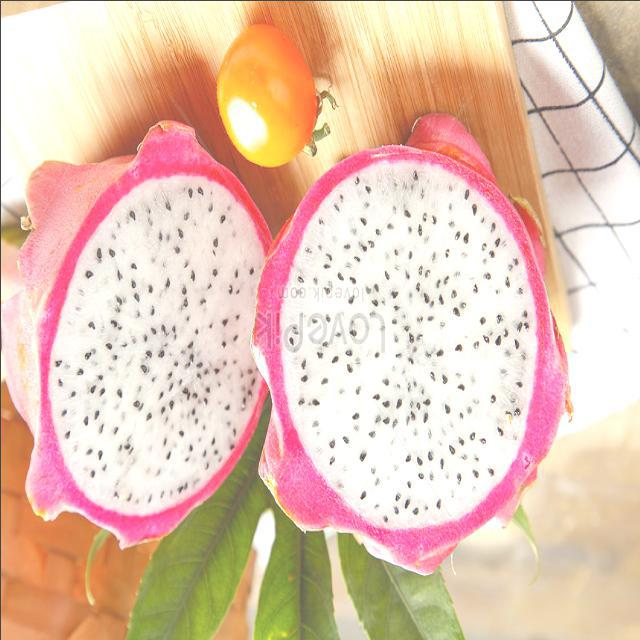trang: (252, 114, 572, 576), (0, 118, 268, 556)
